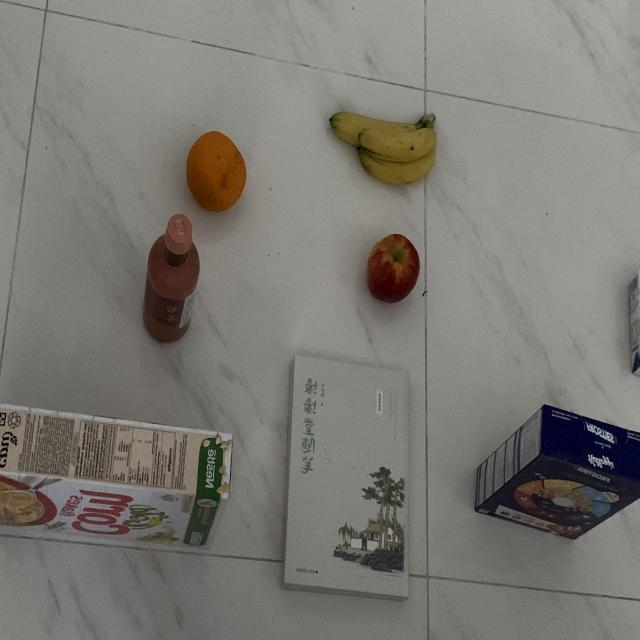apple: (363, 230, 421, 306)
banana: (318, 109, 438, 193)
orange: (182, 130, 248, 216)
